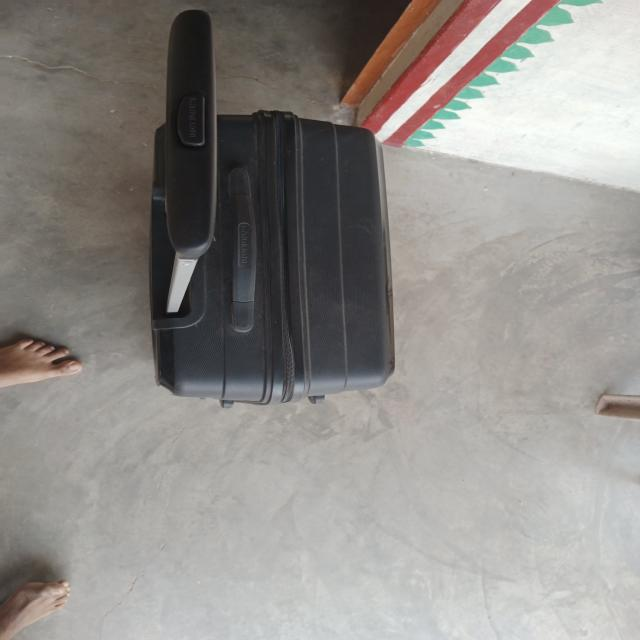suitcaserotation: (141, 3, 400, 413)
